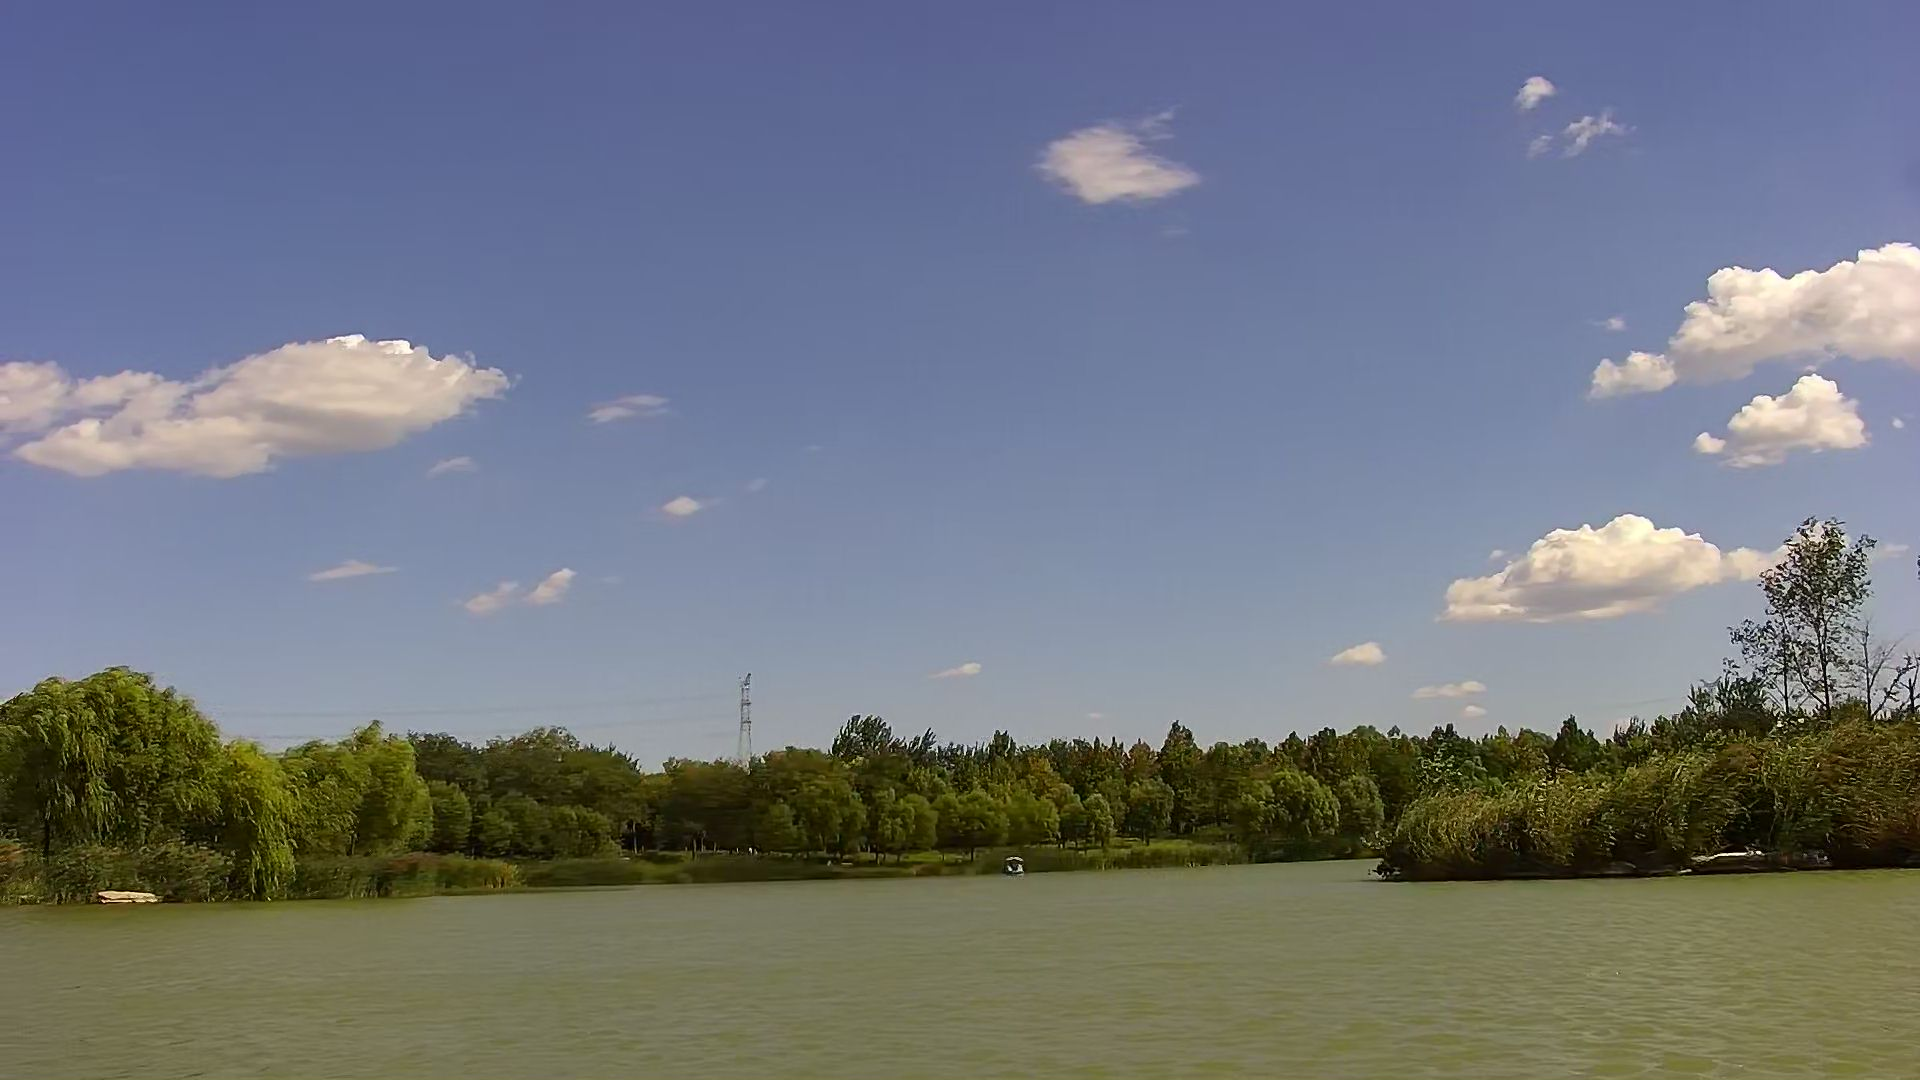boat: (1002, 856, 1029, 878)
